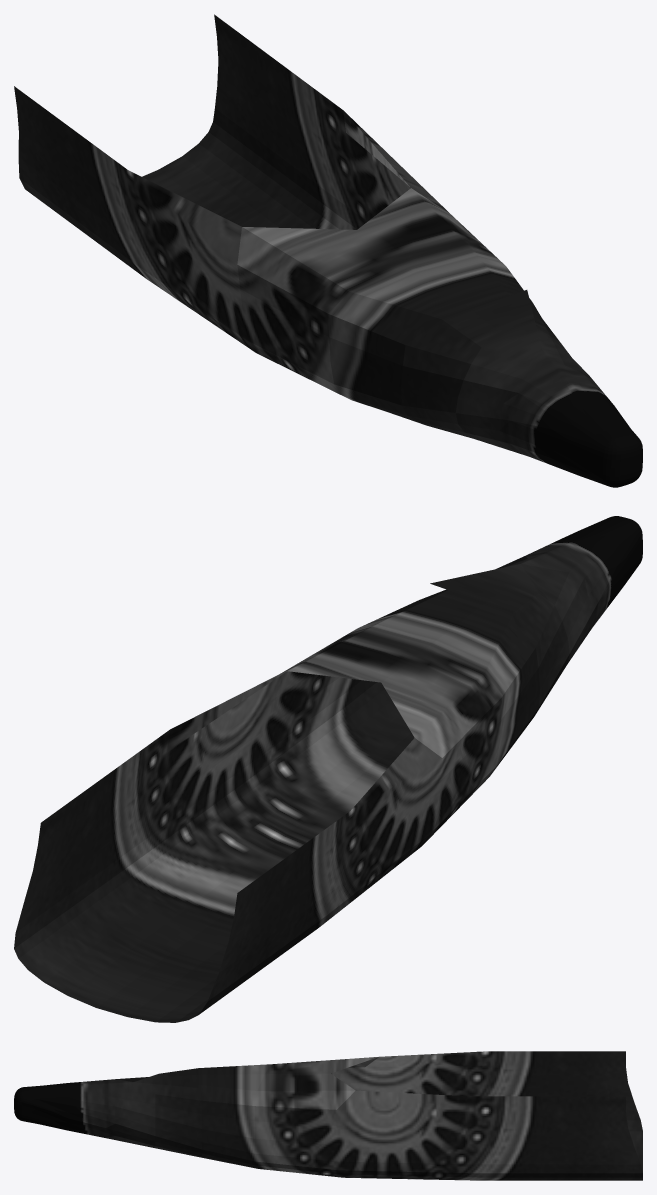
File: erj195_flap_r_1.obj
3 views of the same model, one above another, from view 1: azimuth 30°, elevation 25°; view 2: azimuth 150°, elevation 25°; view 3: azimuth 270°, elevation 25° (orthographic). The views are drawn at different scales.
Bounding box in the file's own units: 0.3782 × 0.2748 × 1.6.
1 material, 1 textured.
